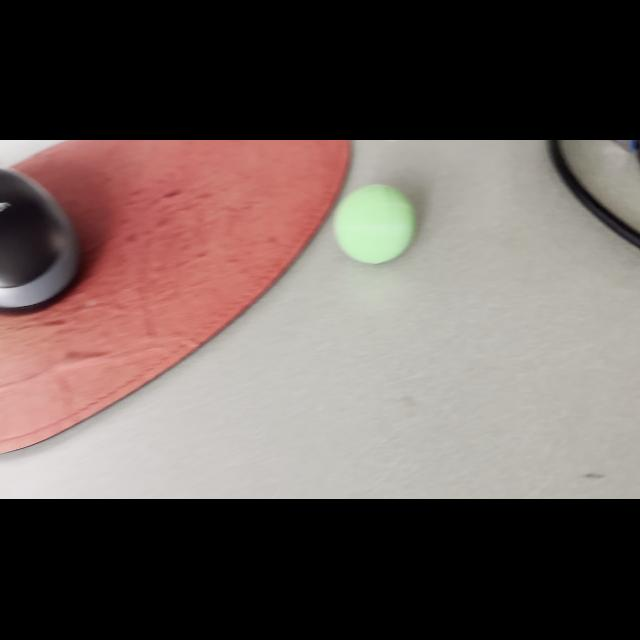objects: (317, 175, 428, 272)
